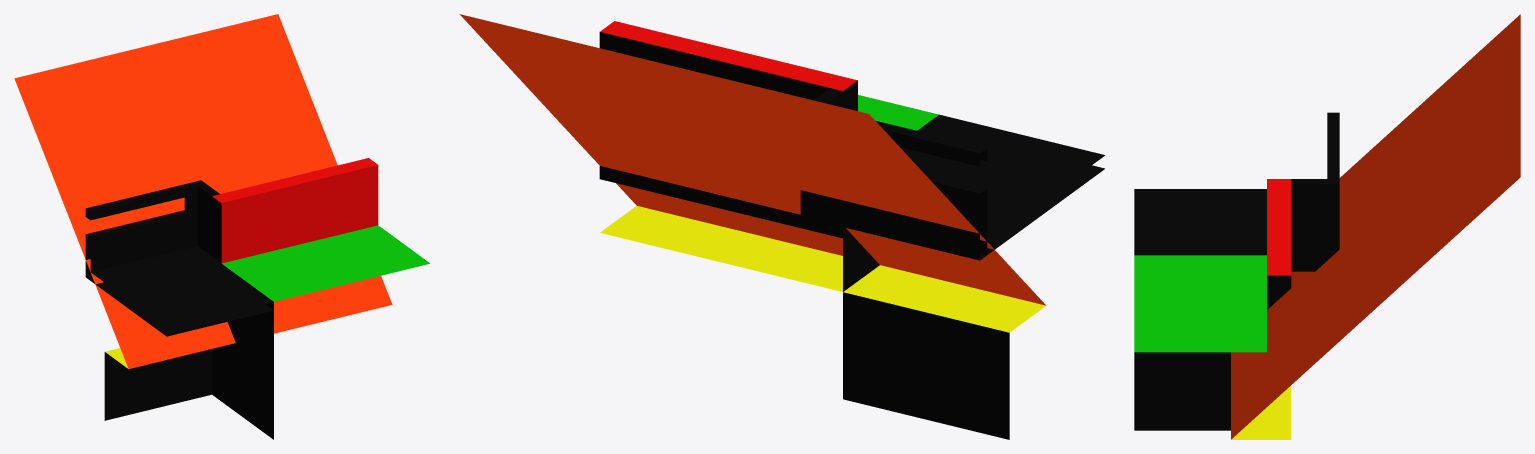
3 views of the same model, side by side, from view 1: azimuth 30°, elevation 25°; view 2: azimuth 150°, elevation 25°; view 3: azimuth 270°, elevation 25° (orthographic). The views are drawn at different scales.
Visible parts, largest first — view 1: None_S_W_E_E_S_P_E_E_None; view 2: None_S_W_E_E_S_P_E_E_None; view 3: None_S_W_E_E_S_P_E_E_None.
Boxes of the visible parts, bbox=[...] form: None_S_W_E_E_S_P_E_E_None: bbox=[14, 14, 429, 439]; None_S_W_E_E_S_P_E_E_None: bbox=[459, 14, 1105, 439]; None_S_W_E_E_S_P_E_E_None: bbox=[1134, 14, 1520, 439].
Bounding box in the file's own units: 100 × 100 × 100.
